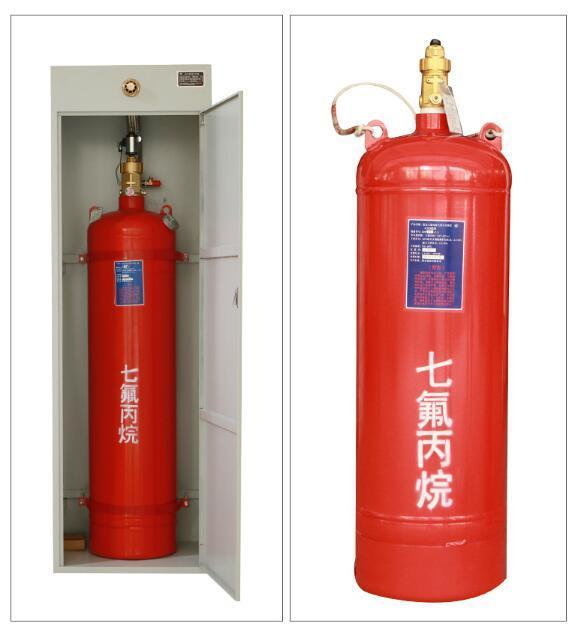Fire Extinguisher: (327, 38, 555, 605), (70, 115, 205, 570)
